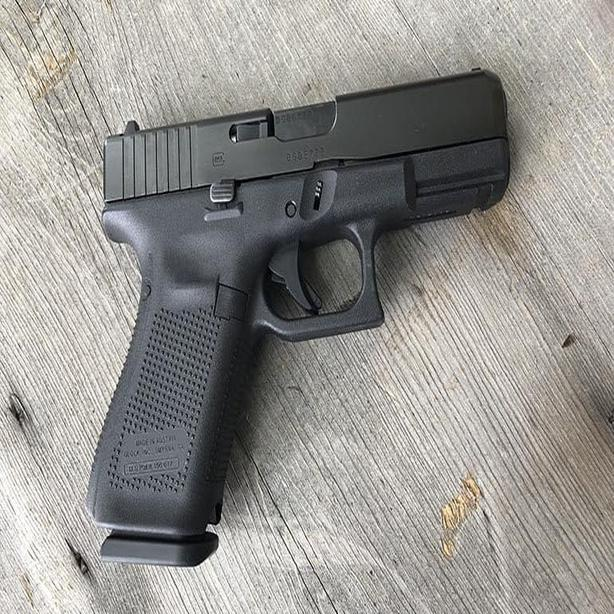Firearm: (85, 57, 554, 576)
